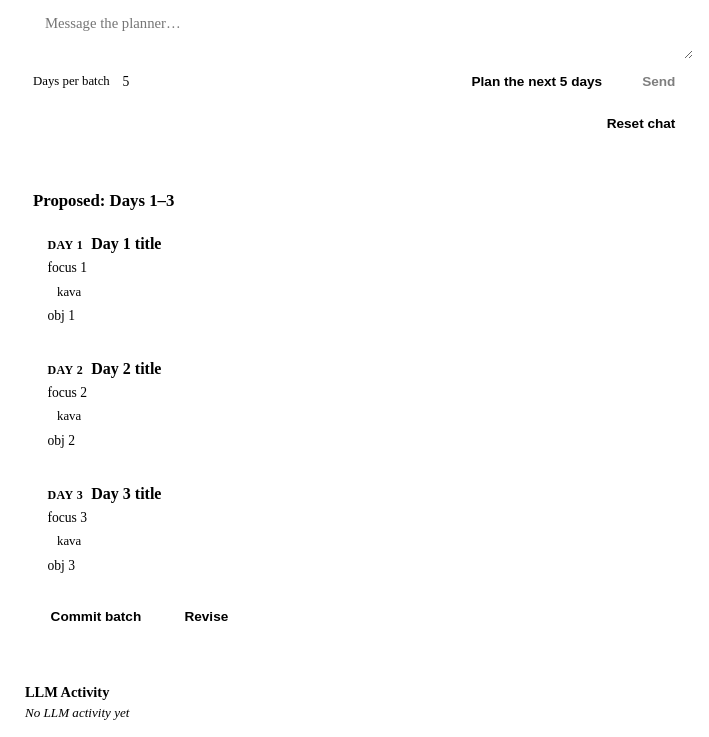
Test: /c/[curriculumId]/plan page › commit appends the event line, clears the proposal, updates the day count and starts pipeline
(page scrolled)
Step 1. Click the button "Commit batch" → (96, 616), box [33,601,159,632]
(page scrolled)
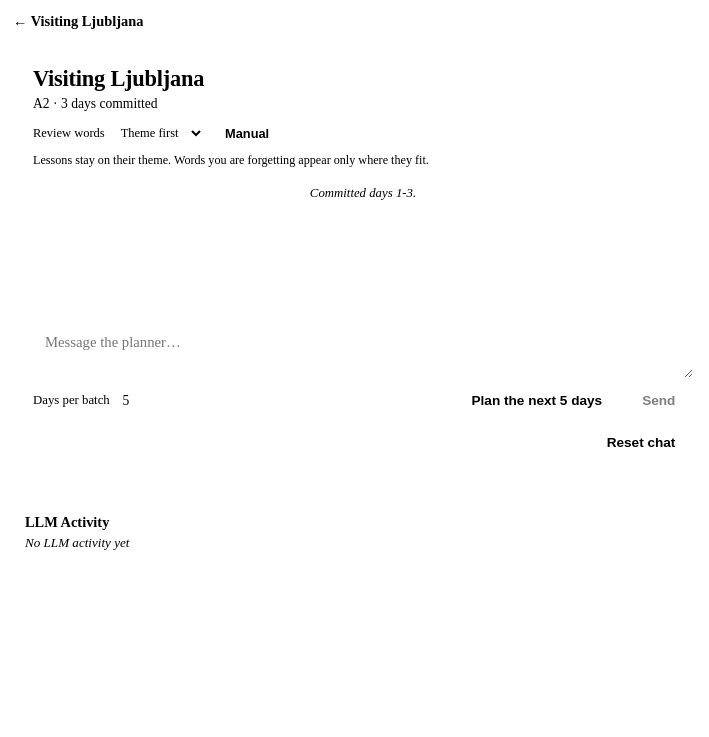
Expected: the text "Committed days 1-3." is shown, [302,185,424,203]
Expected: the heading "Proposed: Days 1–3" is gone
Expected: the text "A2 · 3 days committed" is shown, [33,96,158,111]
